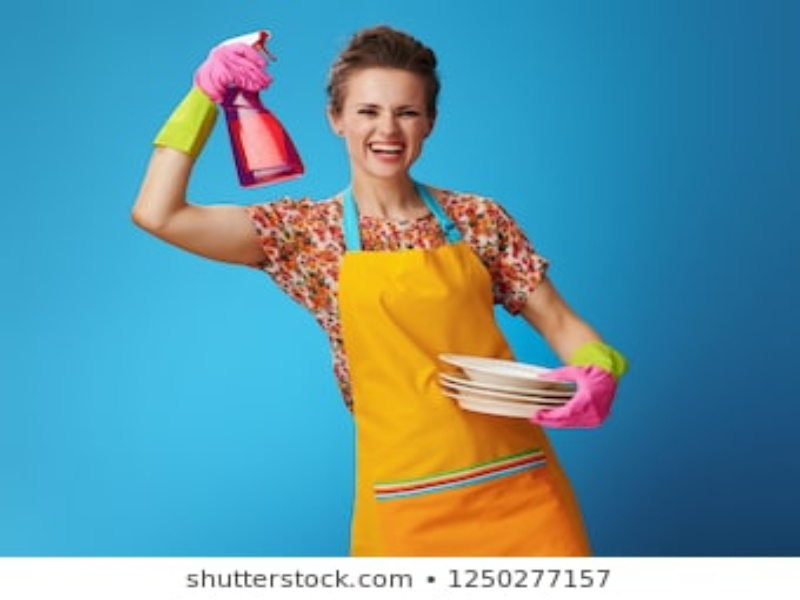detergent-bottle: (204, 17, 321, 189)
